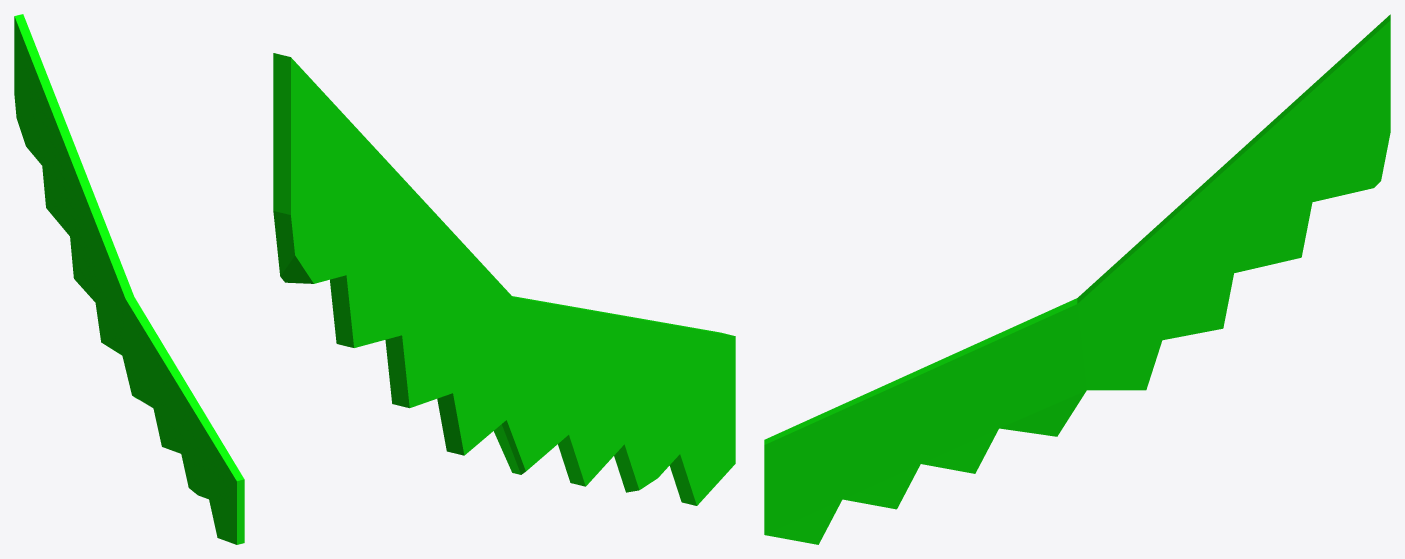
File: SM_Roof_Moderate_Regular_1x2m_Decor_Fantasy.fbx
3 views of the same model, side by side, from view 1: azimuth 30°, elevation 25°; view 2: azimuth 150°, elevation 25°; view 3: azimuth 270°, elevation 25° (orthographic). The views are drawn at different scales.
Visible parts, largest first — view 1: roof-moderate-regular-1x2m-decor-fantasy; view 2: roof-moderate-regular-1x2m-decor-fantasy; view 3: roof-moderate-regular-1x2m-decor-fantasy.
Boxes of the visible parts, <box> form: roof-moderate-regular-1x2m-decor-fantasy: <box>14,14,244,544</box>; roof-moderate-regular-1x2m-decor-fantasy: <box>273,53,735,505</box>; roof-moderate-regular-1x2m-decor-fantasy: <box>764,14,1390,544</box>.
Bounding box in the file's own units: 0.0456 × 1.85 × 2.
